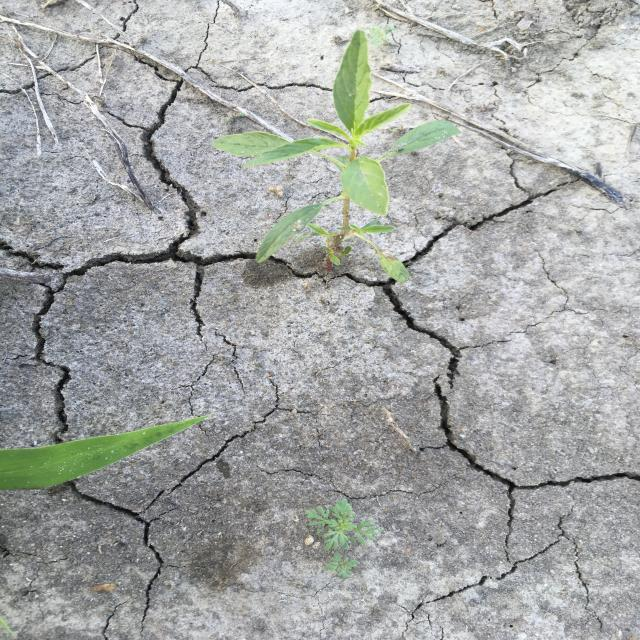Ragweed: (303, 496, 383, 552), (321, 551, 362, 582)
Waterhemp: (209, 29, 465, 287)
